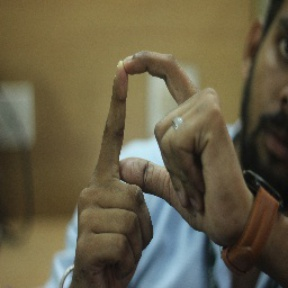D: (85, 48, 211, 210)
